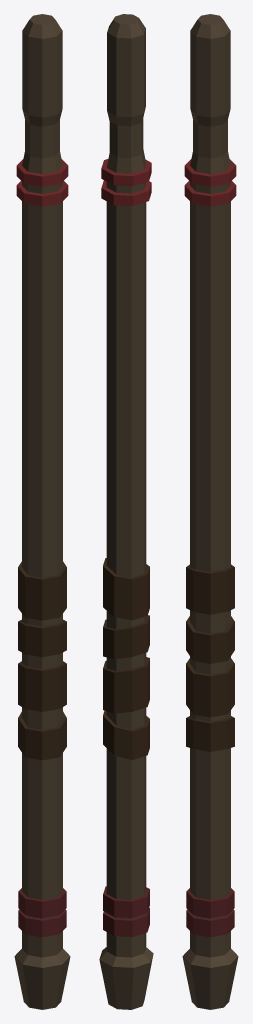
Rendered from Wand.glb.
The picture shows the model from 3 angles, left to right: view 1: azimuth 90°, elevation 25°; view 2: azimuth 150°, elevation 25°; view 3: azimuth 270°, elevation 25°; orthographic projection.
Parts seen in each view (by area): view 1: Wand; view 2: Wand; view 3: Wand.
Part boxes in pixels (left/top/right/bottom): Wand: left=14, top=14, right=70, bottom=1009; Wand: left=99, top=14, right=153, bottom=1009; Wand: left=182, top=14, right=238, bottom=1009.
Bounding box in the file's own units: 0.0194 × 0.3748 × 0.0194.
Materials: 1 (1 with a texture image).
